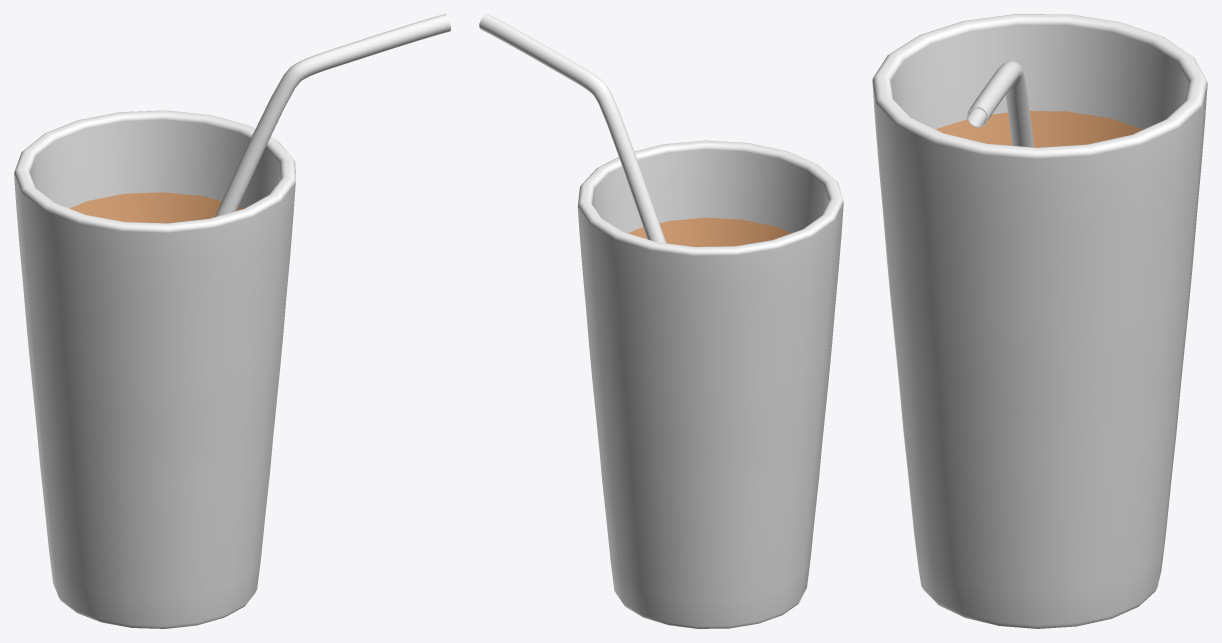
Rendered from coca.glb.
3 views of the same model, side by side, from view 1: azimuth 30°, elevation 25°; view 2: azimuth 150°, elevation 25°; view 3: azimuth 270°, elevation 25° (orthographic). The views are drawn at different scales.
Parts seen in each view (by area): view 1: copo_low_01; view 2: copo_low_01; view 3: copo_low_01.
Part boxes in pixels (box(x1,y1,x2,y2)): copo_low_01: box(14, 14, 450, 628); copo_low_01: box(479, 14, 843, 628); copo_low_01: box(872, 14, 1207, 628).
Bounding box in the file's own units: 0.0635 × 0.0824 × 0.04.
Materials: 3 (3 with a texture image).
